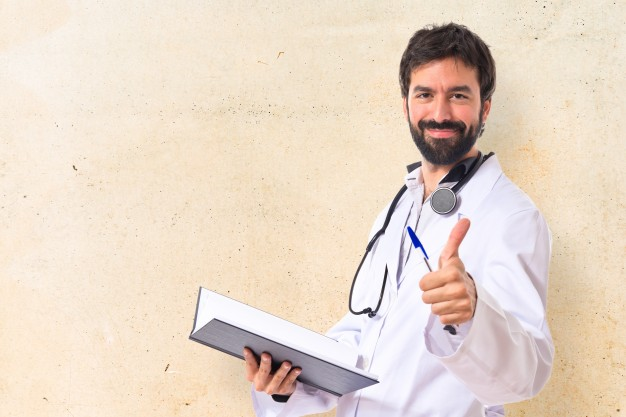thumbsup: (419, 218, 474, 325)
